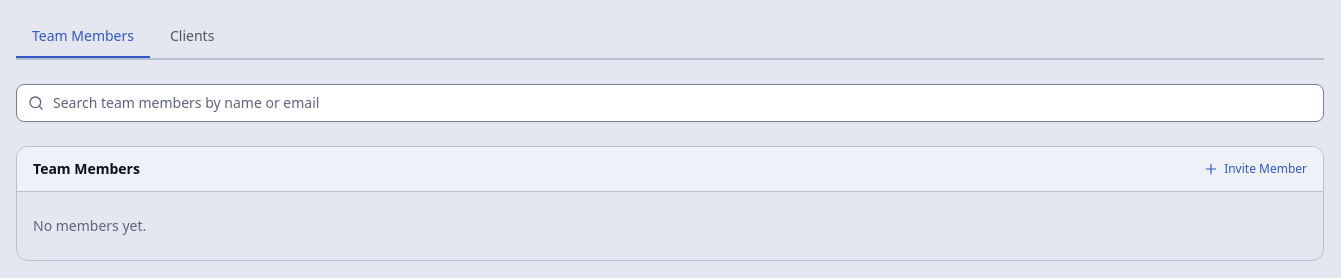
a meaningful empty state › says no members and no clients rather than rendering blank lists
Expected: the text "No members yet." is shown, [33,216,146,235]
What coordinates should you click on to do the following:
click the button "Clients"
I would click on:
 (192, 37)
Its box is [154,16,230,58].
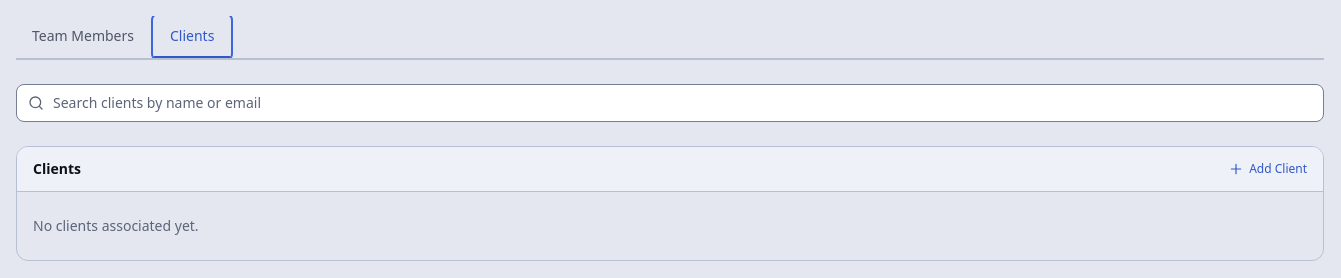
Result: the text "No clients associated yet." is shown at [33,216,199,235]
